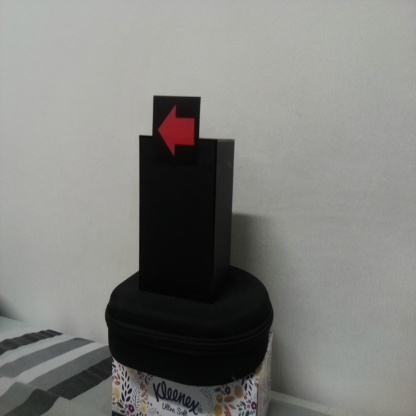id_4: (153, 96, 200, 164)
